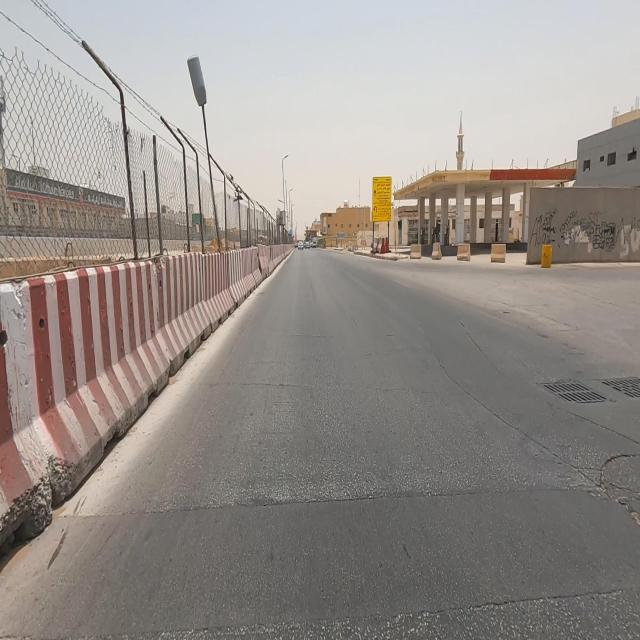Graffiti: (530, 208, 640, 252)
